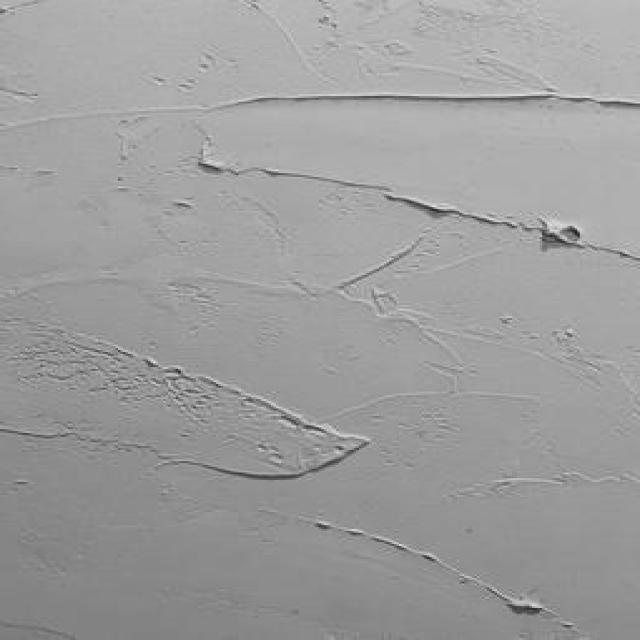trowels marks: (0, 74, 640, 496), (236, 496, 586, 636), (215, 0, 572, 89)
